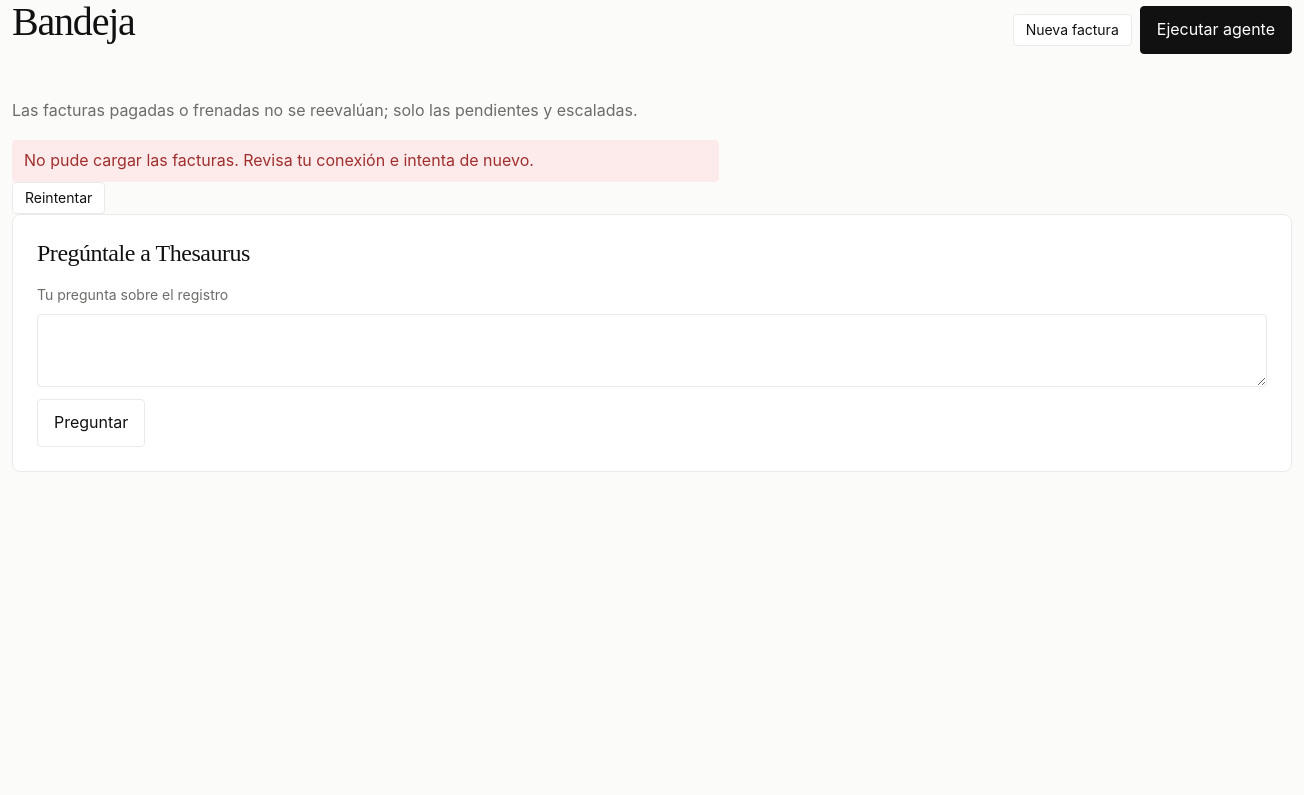
Scenario: a second 5xx shows a plain message with «Reintentar», no skeleton; «Reintentar» loads Bandeja (R-150 lever 4)
Check: the message reads "No pude cargar las facturas. Revisa tu conexión e intenta de nuevo.", box left=24, top=150, right=534, bottom=170
Step 1. Click the button "Reintentar" → (59, 198), box left=12, top=182, right=105, bottom=214
(page scrolled)
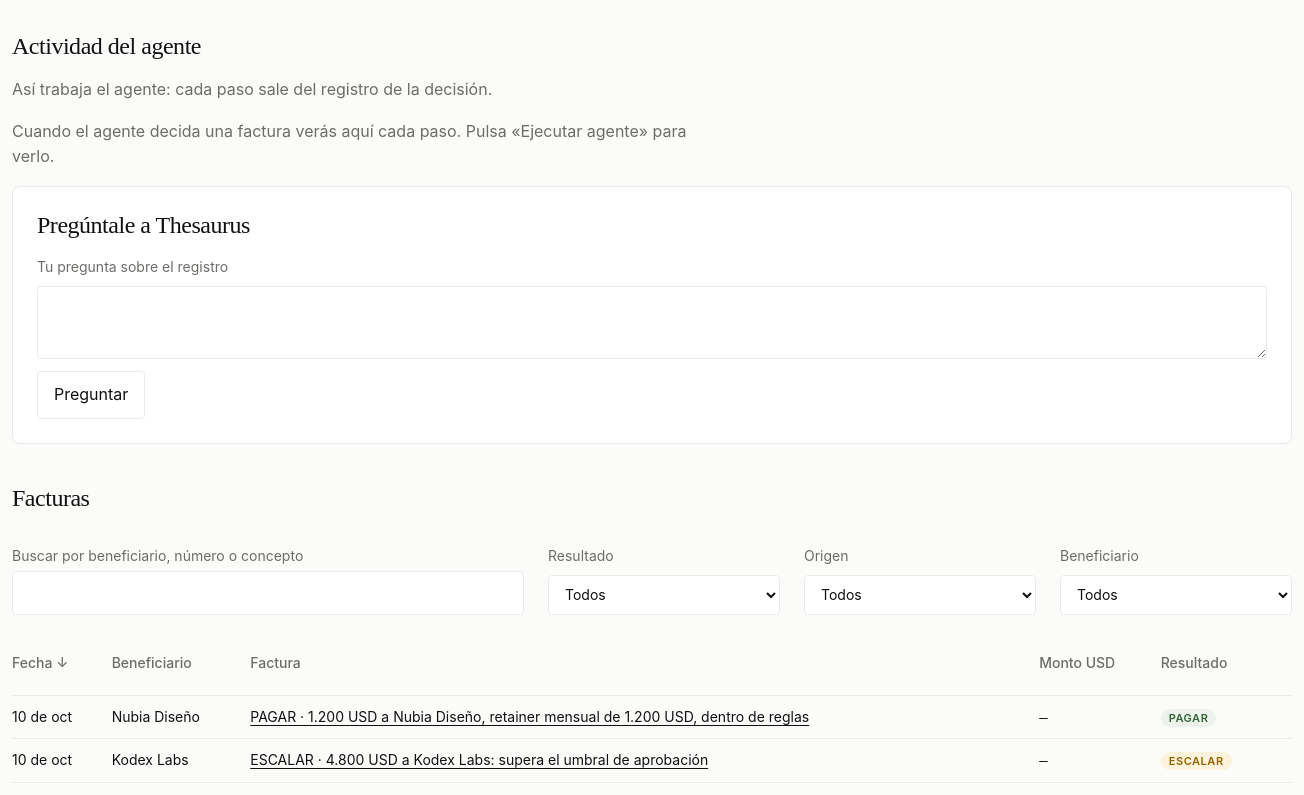
Check: the link "supera el umbral" is shown, box left=250, top=751, right=708, bottom=768
Check: the message "No pude cargar las facturas. Revisa tu conexión e intenta de nuevo." is gone
